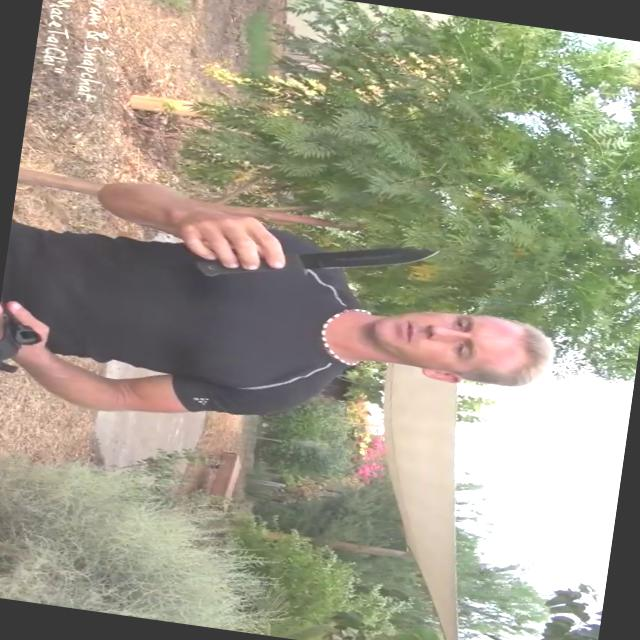knife: (190, 204, 444, 318)
